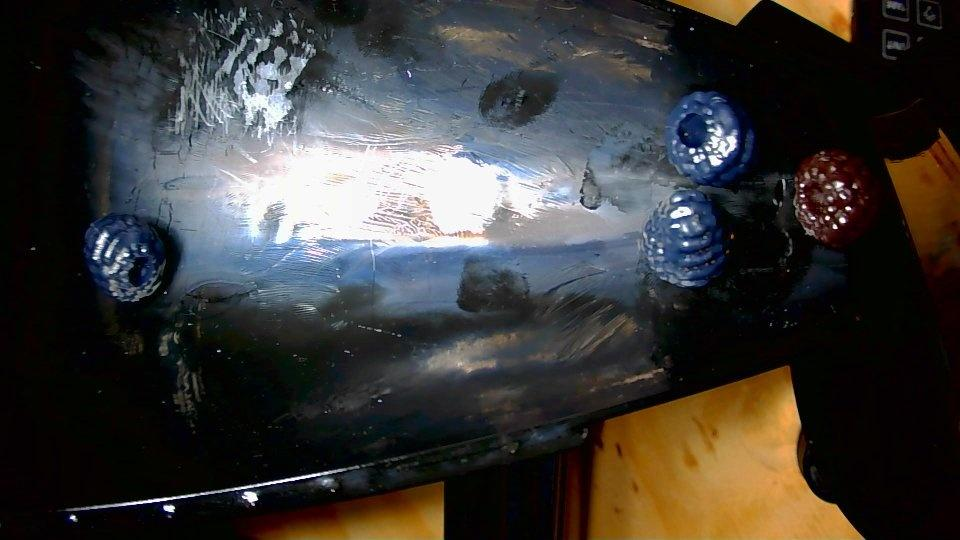berry: (643, 189, 731, 287), (665, 91, 755, 186), (794, 149, 880, 247), (84, 214, 166, 301)
